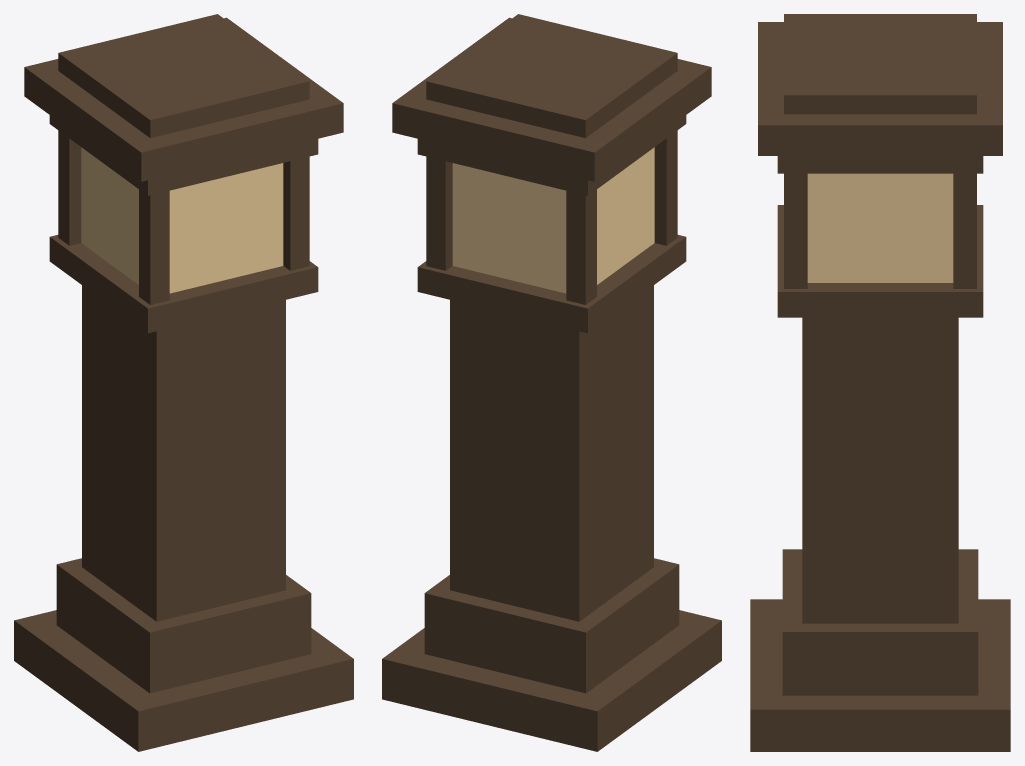
Rendered from path_bollard.glb.
The picture shows the model from 3 angles, left to right: view 1: azimuth 30°, elevation 25°; view 2: azimuth 150°, elevation 25°; view 3: azimuth 270°, elevation 25°; orthographic projection. The views are drawn at different scales.
Parts seen in each view (by area): view 1: PathBollard; view 2: PathBollard; view 3: PathBollard.
Boxes of the visible parts, left/top/right/bottom form: PathBollard: left=14, top=14, right=353, bottom=751; PathBollard: left=382, top=14, right=721, bottom=751; PathBollard: left=750, top=14, right=1010, bottom=751.
Size of the model in its own units: 0.2 by 0.544 by 0.2.
